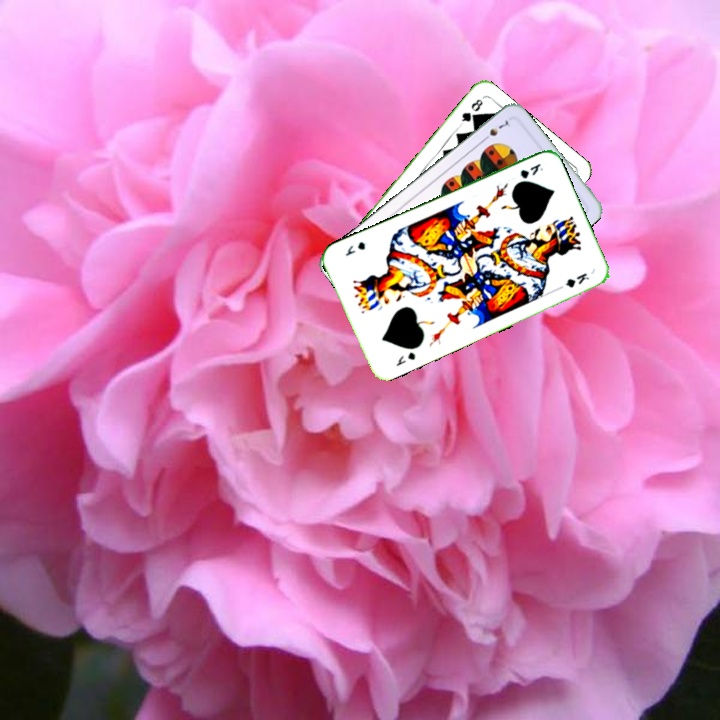G8: (456, 95, 485, 128)
GK: (516, 159, 546, 181), (392, 348, 418, 369)
S7: (478, 116, 513, 144)
